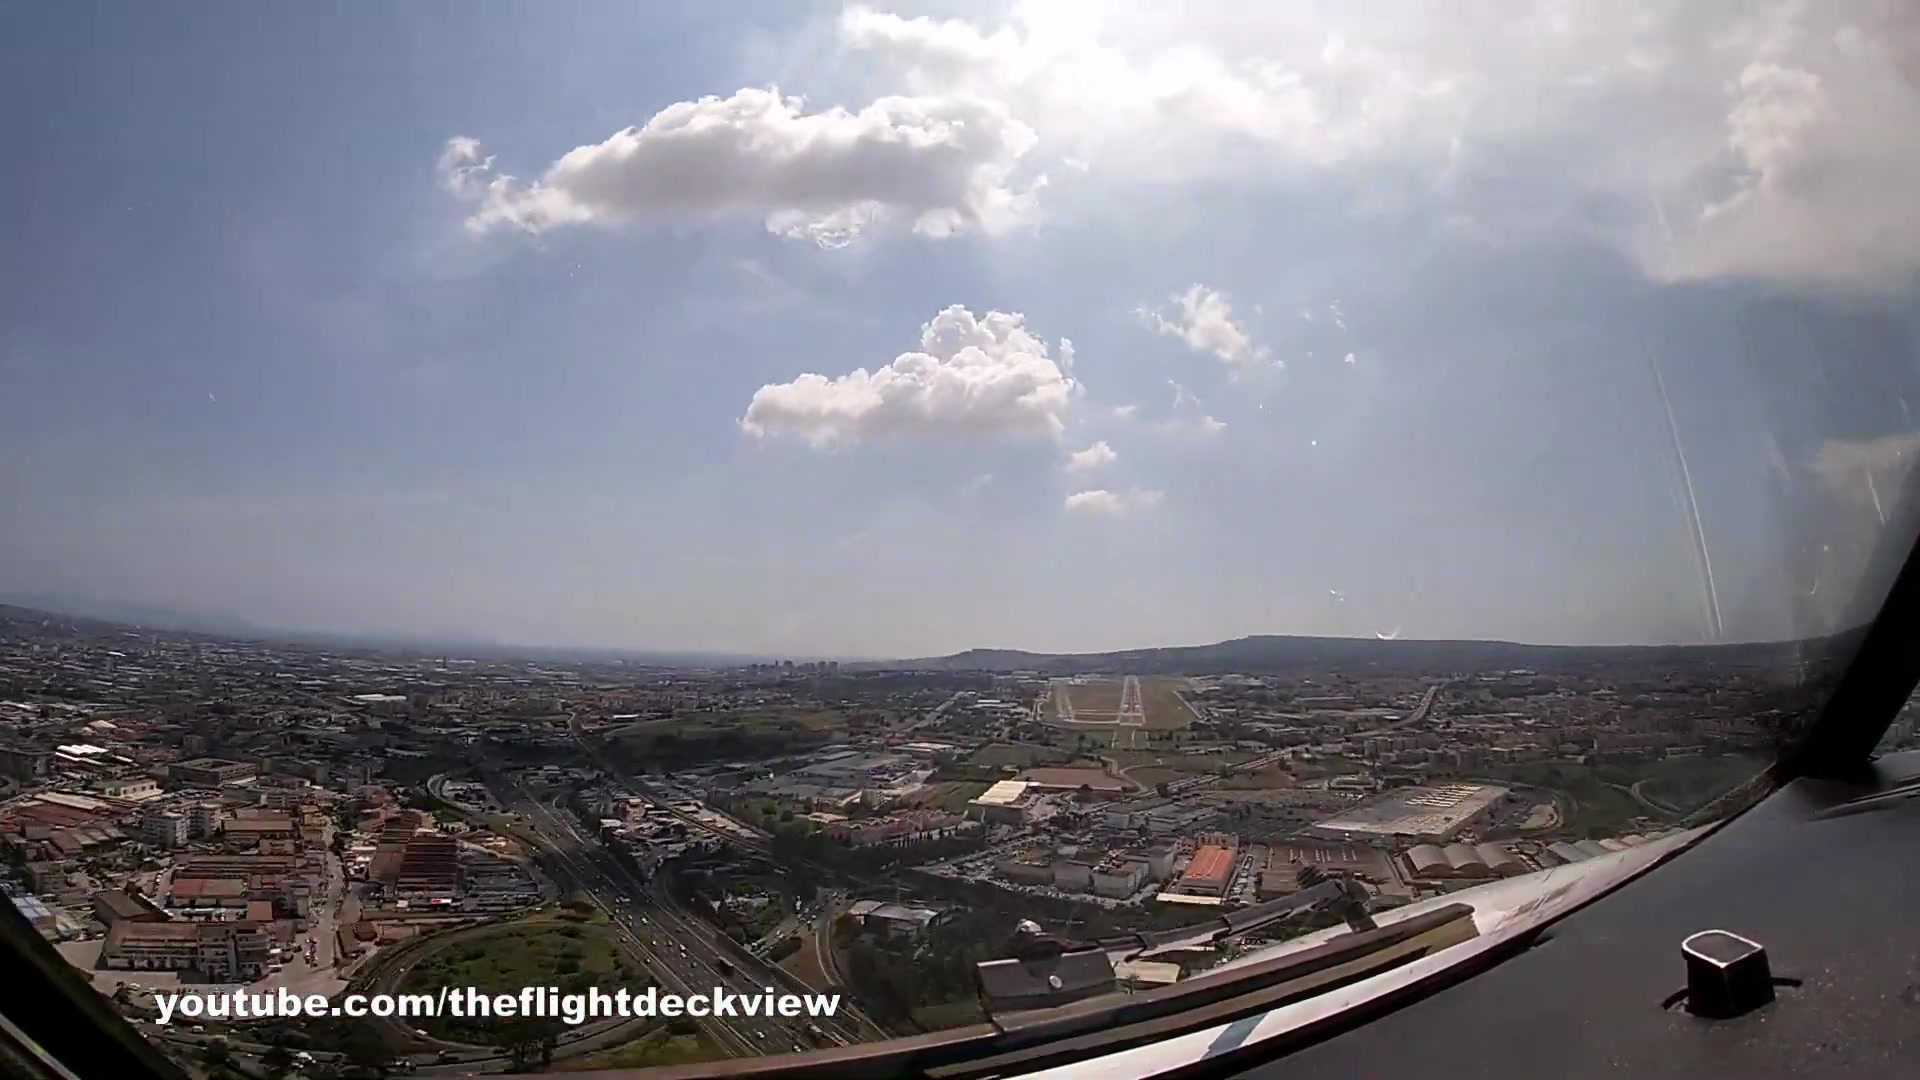runway: (1116, 676, 1149, 727)
